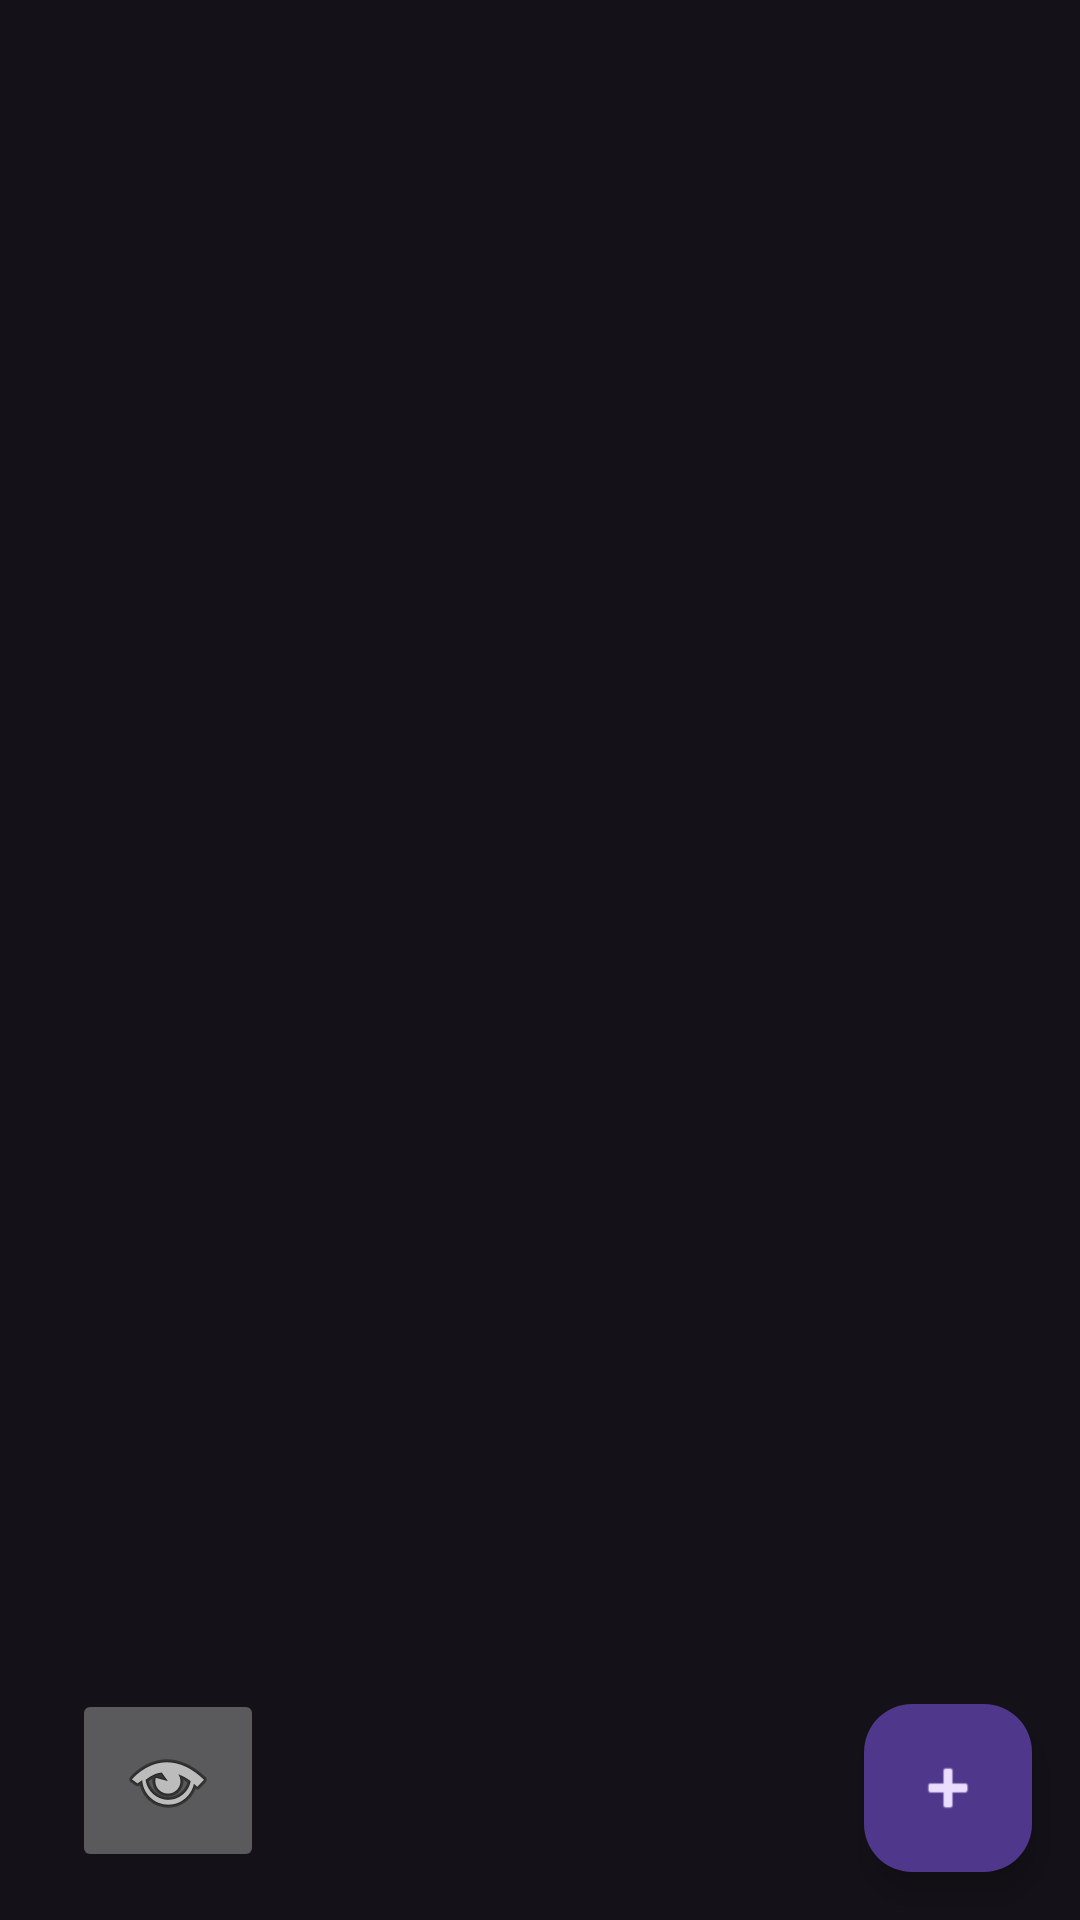

Icons on this 1080px×1920px Android screen, each with its box as box=[x1, y1, x2, y2]:
add: box=[864, 1704, 1032, 1872]
view: box=[84, 1707, 252, 1854]
